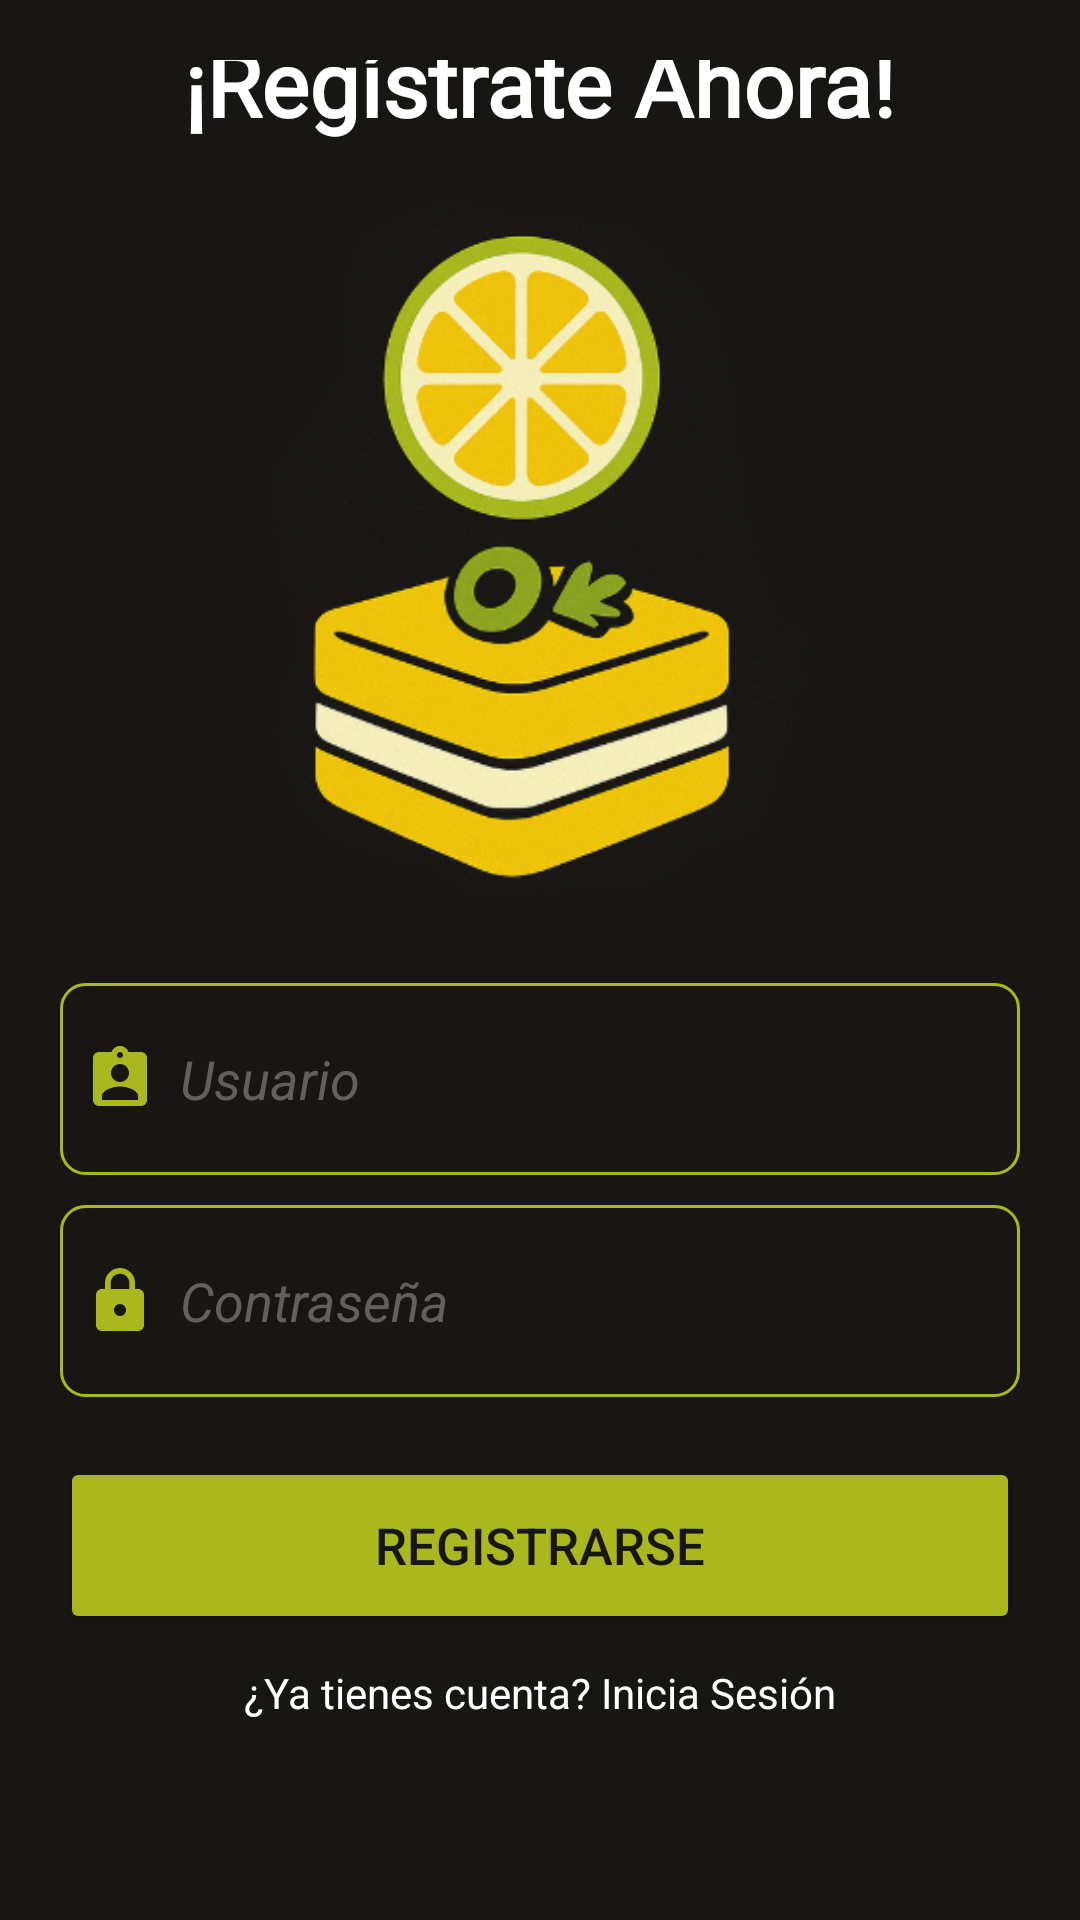

Screen size 1080 x 1920. Icon name, then its center in pixels as (x,y):
password: (120,1299)
